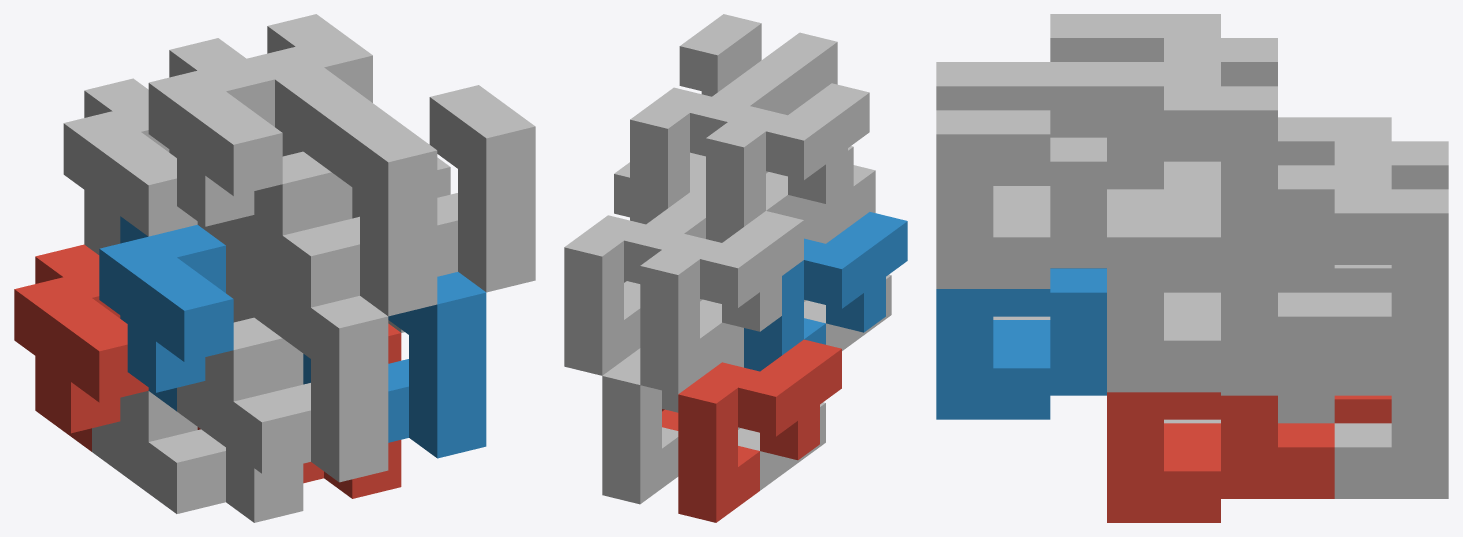
The model's file is tiling.obj.
3 renders of one model, left to right at view 1: azimuth 30°, elevation 25°; view 2: azimuth 150°, elevation 25°; view 3: azimuth 270°, elevation 25°, orthographic. The views are drawn at different scales.
Visible parts, largest first — view 1: copy_2_domain_4, copy_2_domain_2, copy_1_domain_4, copy_2_domain_8, copy_1_domain_2, copy_1_domain_1, copy_2_domain_1, copy_2_domain_6, copy_1_domain_3, copy_1_domain_8, copy_1_domain_6, copy_2_domain_5 (+1 smaller); view 2: copy_1_domain_1, copy_1_domain_3, copy_1_domain_4, copy_1_domain_7, copy_1_domain_2, copy_1_domain_8, copy_1_domain_5, copy_2_domain_8, copy_2_domain_4, copy_2_domain_2, copy_2_domain_1, copy_2_domain_3 (+2 smaller); view 3: copy_2_domain_7, copy_2_domain_8, copy_1_domain_8, copy_1_domain_7, copy_2_domain_5, copy_2_domain_6, copy_1_domain_5, copy_1_domain_4, copy_1_domain_3, copy_2_domain_4, copy_1_domain_6, copy_1_domain_1 (+1 smaller).
Boxes of the visible parts, x1,y1,x2,y2 form: copy_2_domain_4: [226, 109, 437, 316]; copy_2_domain_2: [177, 287, 388, 482]; copy_1_domain_4: [148, 38, 282, 244]; copy_2_domain_8: [352, 85, 535, 292]; copy_1_domain_2: [99, 216, 233, 411]; copy_1_domain_1: [14, 244, 148, 451]; copy_2_domain_1: [92, 357, 303, 522]; copy_2_domain_6: [303, 272, 486, 458]; copy_1_domain_3: [63, 78, 197, 254]; copy_1_domain_8: [247, 14, 380, 195]; copy_1_domain_6: [226, 246, 303, 361]; copy_2_domain_5: [197, 323, 401, 498]; copy_1_domain_1: [678, 339, 841, 522]; copy_1_domain_3: [640, 211, 803, 394]; copy_1_domain_4: [706, 83, 869, 242]; copy_1_domain_7: [564, 192, 705, 375]; copy_1_domain_2: [744, 212, 907, 371]; copy_1_domain_8: [630, 65, 793, 224]; copy_1_domain_5: [602, 346, 743, 504]; copy_2_domain_8: [679, 14, 761, 174]; copy_2_domain_4: [756, 32, 853, 222]; copy_2_domain_2: [804, 165, 891, 350]; copy_2_domain_1: [738, 402, 825, 490]; copy_2_domain_3: [690, 181, 743, 361]; copy_2_domain_7: [1107, 213, 1334, 392]; copy_2_domain_8: [936, 110, 1163, 288]; copy_1_domain_8: [1050, 62, 1277, 264]; copy_1_domain_7: [1278, 165, 1448, 368]; copy_2_domain_5: [1107, 392, 1334, 522]; copy_2_domain_6: [936, 268, 1106, 419]; copy_1_domain_5: [1278, 368, 1448, 498]; copy_1_domain_4: [1050, 14, 1277, 165]; copy_1_domain_3: [1278, 117, 1448, 292]; copy_2_domain_4: [936, 62, 1050, 189]; copy_1_domain_6: [1050, 265, 1277, 395]; copy_1_domain_1: [1334, 395, 1391, 423].
Size of the model in its own units: 6 by 8 by 9.
